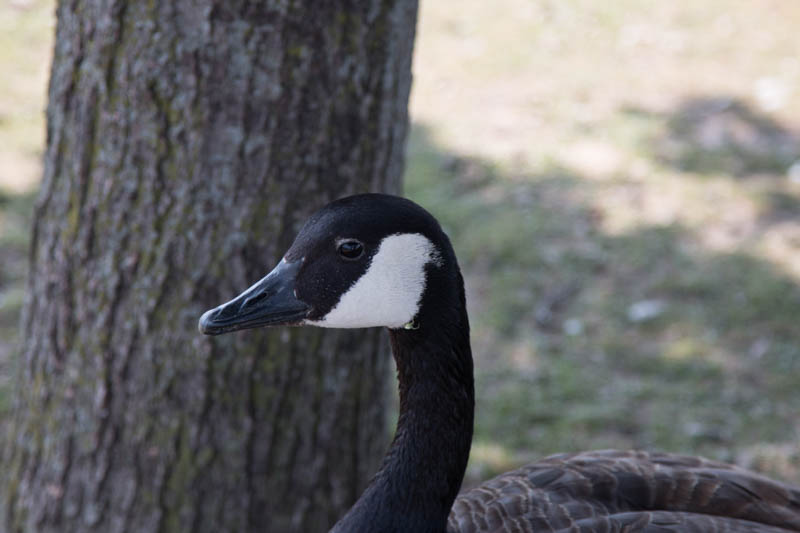goose-head: (197, 194, 466, 335)
